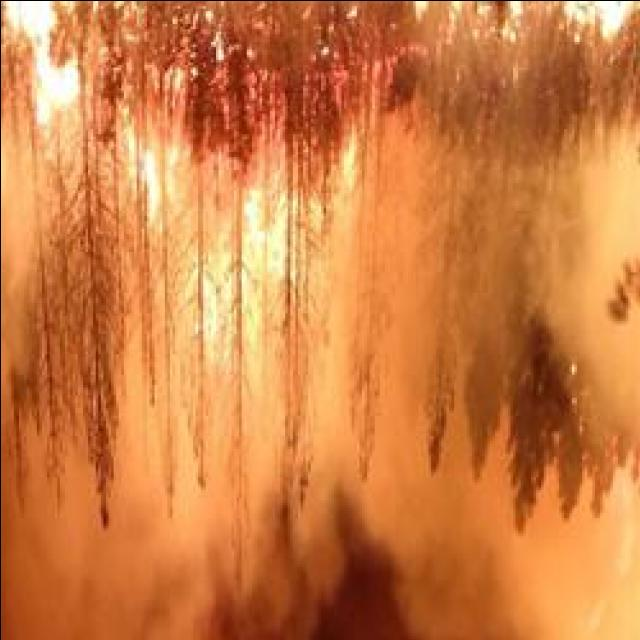fire: (5, 1, 86, 125), (557, 0, 629, 40)
smoke: (0, 510, 314, 640), (522, 104, 640, 446), (378, 532, 640, 640), (336, 136, 420, 400), (0, 123, 49, 402)
